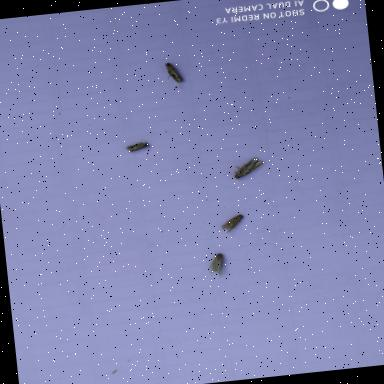pbw: (228, 154, 268, 182), (202, 252, 231, 282), (164, 59, 188, 94), (215, 212, 246, 237), (122, 136, 152, 160)
